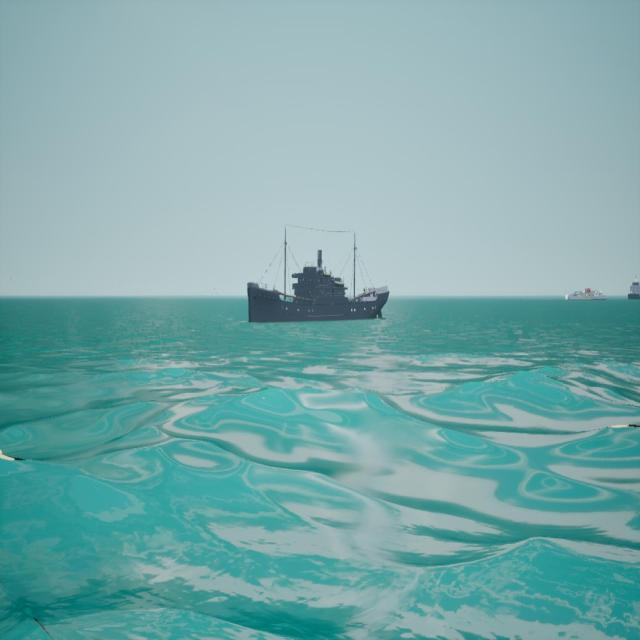fishing ship: (248, 226, 391, 325), (627, 282, 640, 304)
